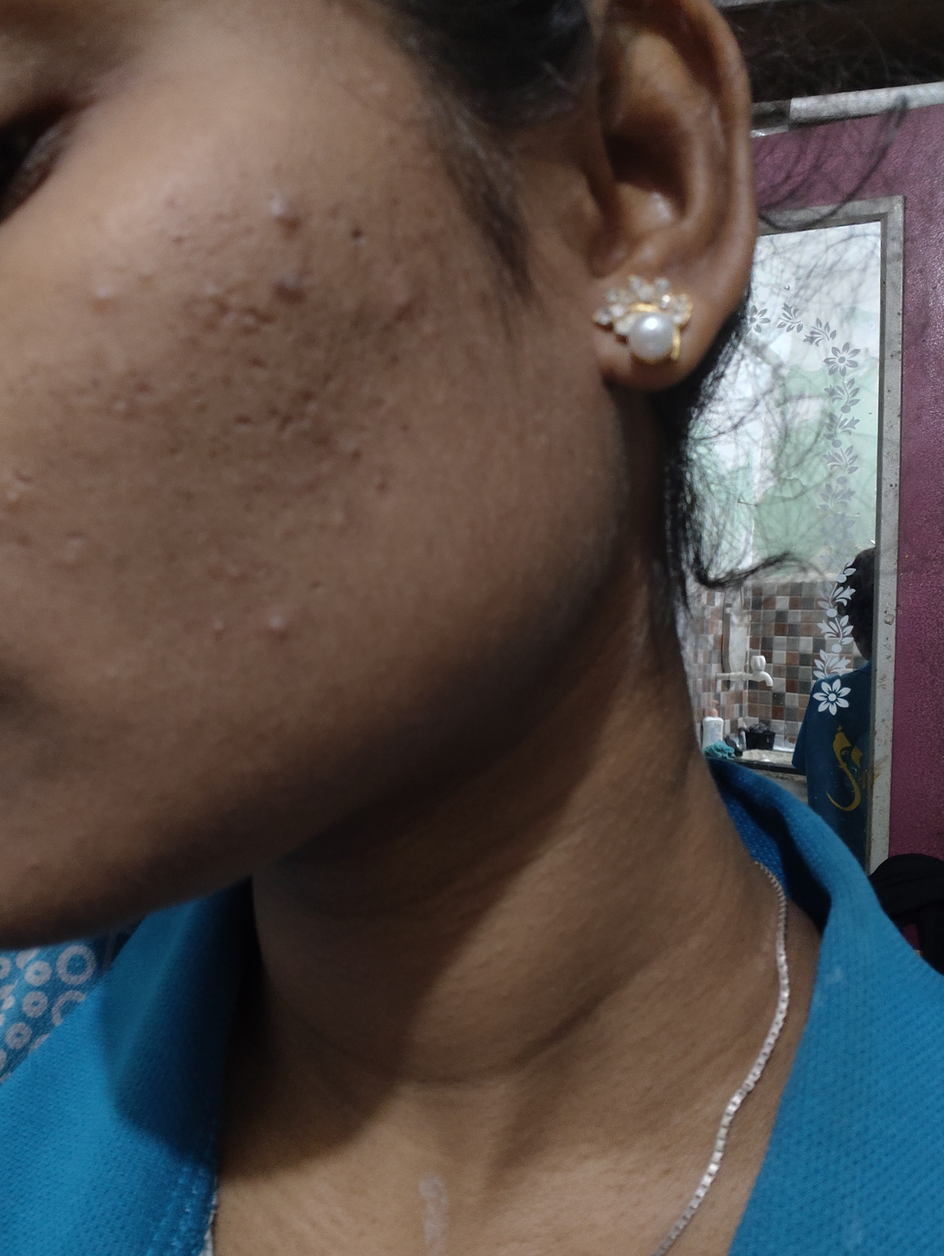nodule: (266, 194, 299, 231), (270, 274, 309, 302), (263, 613, 289, 639), (90, 284, 115, 311), (390, 285, 415, 309)
